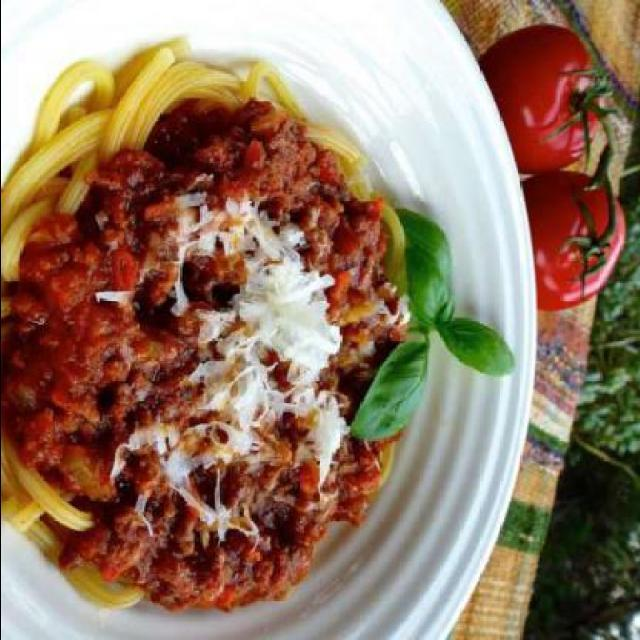Pasta al ragu: (41, 75, 465, 603)
